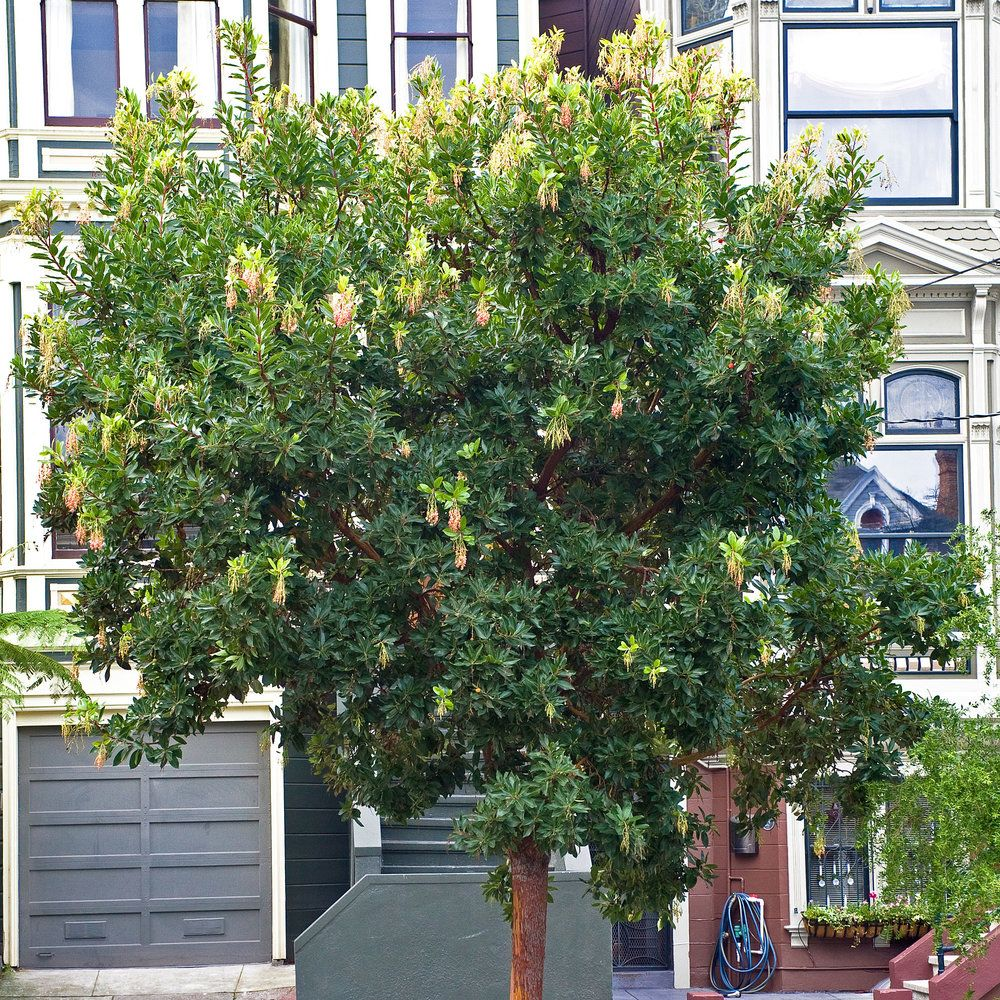tree: (6, 15, 911, 1000)
